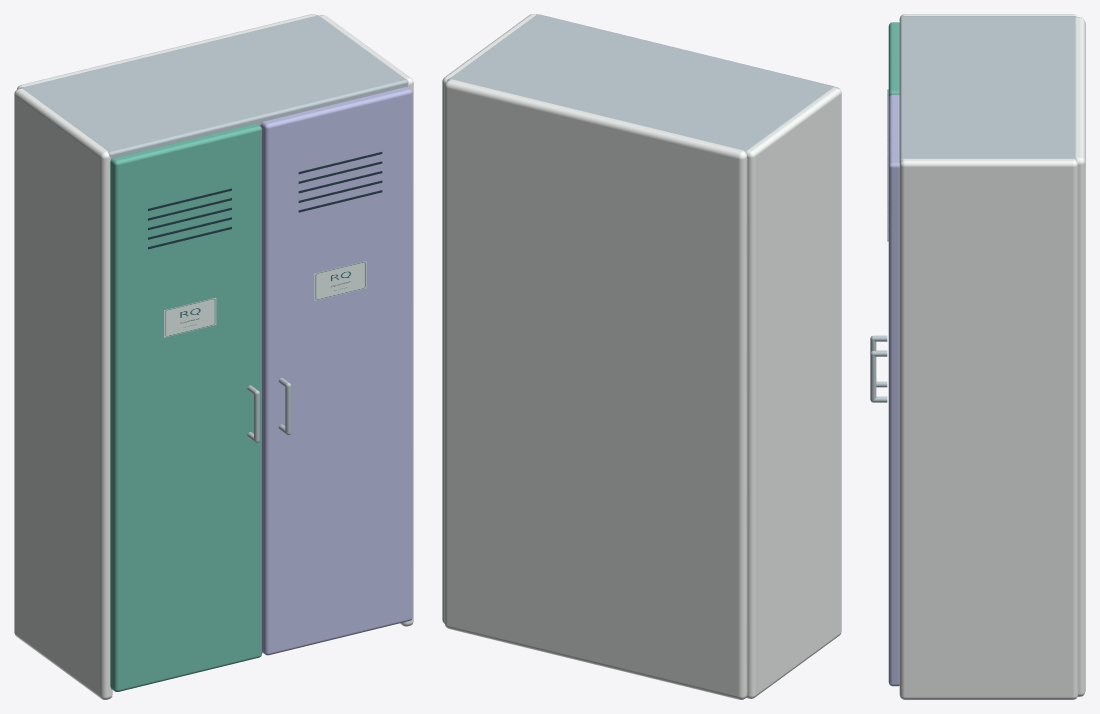
The model's file is equipment_locker.glb.
3 renders of one model, left to right at view 1: azimuth 30°, elevation 25°; view 2: azimuth 150°, elevation 25°; view 3: azimuth 270°, elevation 25°, orthographic.
Visible parts, largest first — view 1: Door_Panel, Door_Panel_2, Cabinet_Side, Cabinet_Shelf_4, Cabinet_Side_2, Locker_Label_mint, Locker_Label_lavender, Cabinet_Back; view 2: Cabinet_Back, Cabinet_Side, Cabinet_Shelf_4, Cabinet_Side_2; view 3: Cabinet_Side_2, Cabinet_Shelf_4, Door_Panel_2, Cabinet_Back, Door_Panel, Cabinet_Side.
Part boxes in pixels (bbox=[...]): Door_Panel: bbox=[110, 123, 261, 691]; Door_Panel_2: bbox=[260, 87, 412, 655]; Cabinet_Side: bbox=[14, 88, 112, 699]; Cabinet_Shelf_4: bbox=[20, 15, 408, 159]; Cabinet_Side_2: bbox=[320, 15, 413, 626]; Locker_Label_mint: bbox=[164, 297, 216, 337]; Locker_Label_lavender: bbox=[314, 261, 366, 300]; Cabinet_Back: bbox=[17, 14, 316, 89]; Cabinet_Back: bbox=[444, 79, 747, 699]; Cabinet_Side: bbox=[746, 87, 841, 698]; Cabinet_Shelf_4: bbox=[447, 14, 835, 153]; Cabinet_Side_2: bbox=[442, 14, 535, 623]; Cabinet_Side_2: bbox=[899, 159, 1077, 699]; Cabinet_Shelf_4: bbox=[899, 16, 1077, 162]; Door_Panel_2: bbox=[888, 94, 899, 686]; Cabinet_Back: bbox=[1075, 17, 1085, 696]; Door_Panel: bbox=[888, 22, 899, 97]; Cabinet_Side: bbox=[900, 14, 1077, 16].
Bounding box in the file's own units: 1.2 × 2 × 0.723.
Materials: 8 (2 with a texture image).
